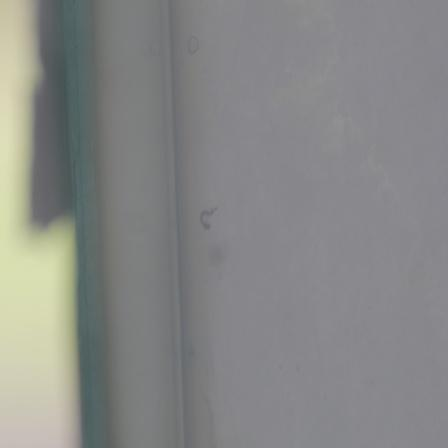Jentik-Nyamuk: (195, 196, 223, 234)
